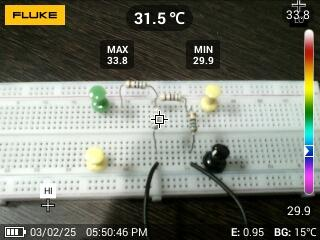resistor: (186, 109, 199, 138), (123, 78, 149, 91), (158, 92, 185, 102), (152, 107, 162, 133)
